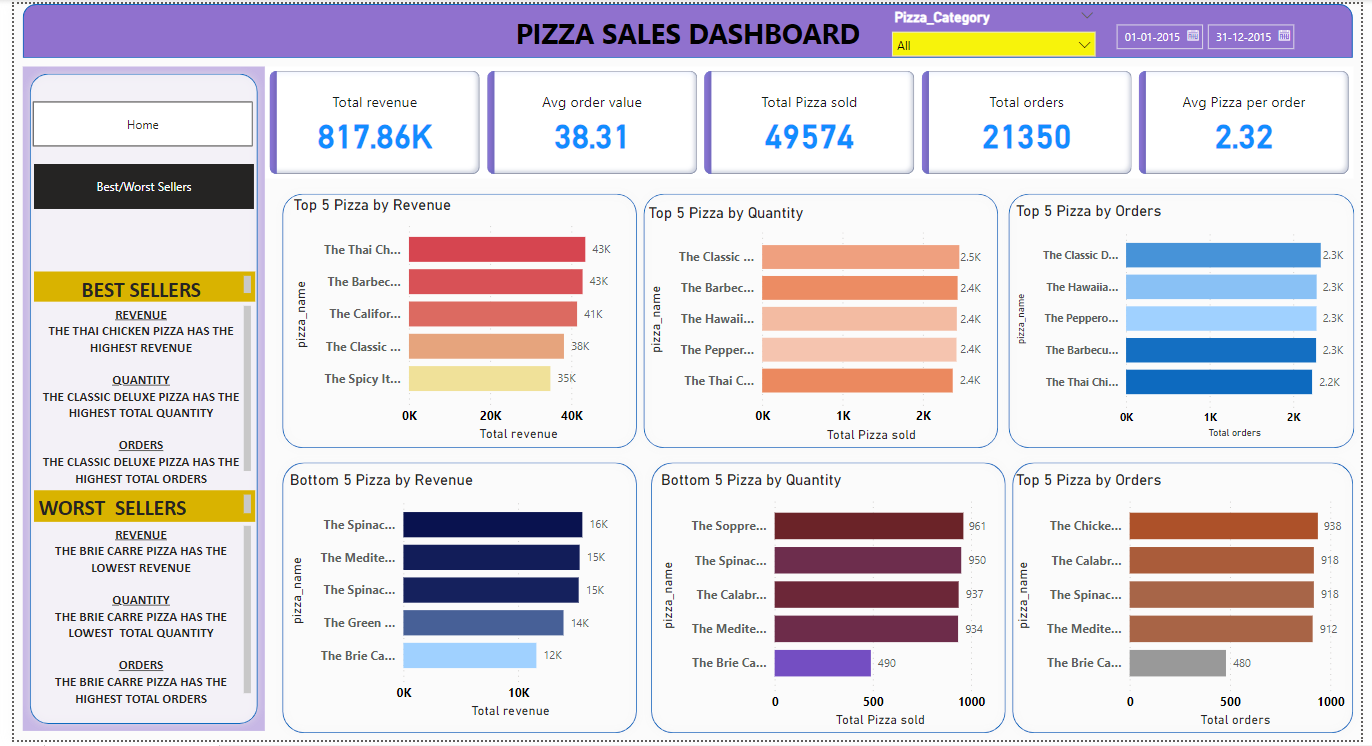

Layout of this report page (visuals, bound fields, positions):
{"tool":"powerbi","page":{"name":"Best/Worst Sellers","canvas":[1500,820],"ordinal":1},"visuals":[{"type":"shape","box":[9.8,70.2,269.7,740.2],"z":0},{"type":"cardVisual","fields":{"Data":["pizza_sales.Total revenue","pizza_sales.Avg order value","pizza_sales.Total Pizza sold","pizza_sales.Total orders","pizza_sales.Avg Pizza per order"]},"box":[279.5,70.2,1212.1,125],"z":1000},{"type":"shape","box":[10,0,1481.2,60],"z":2000},{"type":"shape","box":[291,203.3,410.7,299.3],"z":3000},{"type":"textbox","box":[22.3,297.9,246.4,33.4],"z":4000},{"type":"textbox","box":[22.3,331.3,246.4,210.2],"z":5000},{"type":"textbox","box":[22.3,541.6,246.4,34.8],"z":6000},{"type":"textbox","box":[22.3,576.4,246.4,211.6],"z":7000},{"type":"slicer","fields":{"Values":["pizza_sales.order_date"]},"box":[1215.4,12.5,231.1,47.3],"z":8000},{"type":"slicer","fields":{"Values":["pizza_sales.pizza_category"]},"box":[967.7,1.4,247.2,59],"z":9000},{"type":"shape","box":[693.3,203.3,410.7,299.3],"z":10000},{"type":"shape","box":[1099.8,203.3,401,299.3],"z":11000},{"type":"shape","box":[291,502.6,410.7,317.4],"z":12000},{"type":"shape","box":[701.7,502.6,410.7,317.4],"z":13000},{"type":"shape","box":[1104,502.6,395.4,317.4],"z":14000},{"type":"clusteredBarChart","title":"Top 5 Pizza by Revenue","fields":{"Category":["pizza_sales.pizza_name"],"Y":["pizza_sales.Total revenue"]},"box":[306.3,213,395.4,278.4],"z":15000},{"type":"clusteredBarChart","title":"Bottom 5 Pizza by Revenue","fields":{"Category":["pizza_sales.pizza_name"],"Y":["pizza_sales.Total revenue"]},"box":[302,519.7,387.6,280.9],"z":16000},{"type":"clusteredBarChart","title":"Top 5 Pizza by Quantity","fields":{"Category":["pizza_sales.pizza_name"],"Y":["pizza_sales.Total Pizza sold"]},"box":[702.2,223.3,389,269.7],"z":17000},{"type":"clusteredBarChart","title":"Bottom 5 Pizza by Quantity","fields":{"Category":["pizza_sales.pizza_name"],"Y":["pizza_sales.Total Pizza sold"]},"box":[715.6,519.3,388.4,291],"z":18000},{"type":"clusteredBarChart","title":"Top 5 Pizza by Orders","fields":{"Category":["pizza_sales.pizza_name"],"Y":["pizza_sales.Total orders"]},"box":[1111,220,388.4,268.7],"z":19000},{"type":"clusteredBarChart","title":"Top 5 Pizza by Orders","fields":{"Category":["pizza_sales.pizza_name"],"Y":["pizza_sales.Total orders"]},"box":[1111,519.3,388.4,291],"z":20000},{"type":"pageNavigator","box":[22.5,178.4,245.8,50.6],"z":20001},{"type":"pageNavigator","box":[21.1,108.1,245.8,50.6],"z":20002}]}

Visuals, with their boxes in screenshot pixels (x1, y1, x2, y2), scaled from the page's 1500x820 canvas onto the 1372x746 screenshot:
shape: (9,64,256,737)
cardVisual - pizza_sales.Total revenue x pizza_sales.Avg order value: (256,64,1364,178)
shape: (9,0,1364,55)
shape: (266,185,642,457)
textbox: (20,271,246,301)
textbox: (20,301,246,493)
textbox: (20,493,246,524)
textbox: (20,524,246,717)
slicer - pizza_sales.order_date: (1112,11,1323,54)
slicer - pizza_sales.pizza_category: (885,1,1111,55)
shape: (634,185,1010,457)
shape: (1006,185,1371,457)
shape: (266,457,642,745)
shape: (642,457,1017,745)
shape: (1010,457,1371,745)
"Top 5 Pizza by Revenue" clusteredBarChart: (280,194,642,447)
"Bottom 5 Pizza by Revenue" clusteredBarChart: (276,473,631,728)
"Top 5 Pizza by Quantity" clusteredBarChart: (642,203,998,449)
"Bottom 5 Pizza by Quantity" clusteredBarChart: (655,472,1010,737)
"Top 5 Pizza by Orders" clusteredBarChart: (1016,200,1371,445)
"Top 5 Pizza by Orders" clusteredBarChart: (1016,472,1371,737)
pageNavigator: (21,162,245,208)
pageNavigator: (19,98,244,144)
